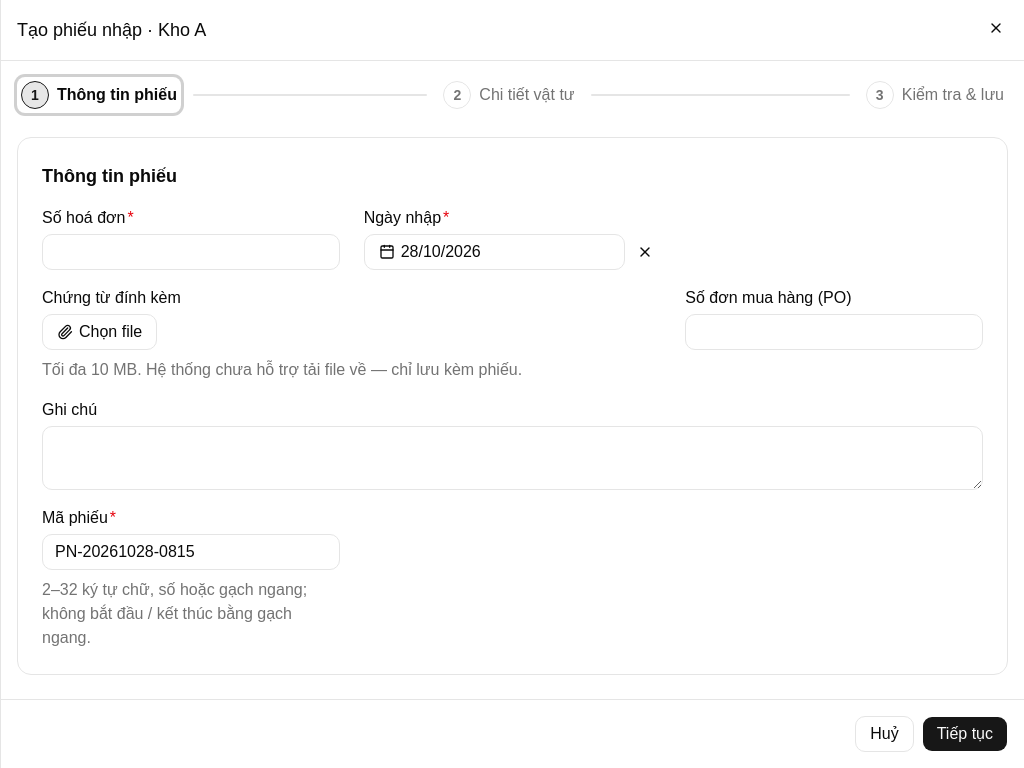
ImportFormSheet - wizard tạo mới › Tiếp tục khi thiếu số HĐ → ở lại ①, lỗi tại ô Số hoá đơn và ô có focus
The image size is (1024, 768).
Expected: the field labelled "Số hoá đơn *" is shown, [42,234,340,270]
Click the button "Tiếp tục".
click(965, 734)  # box [922,716,1008,752]
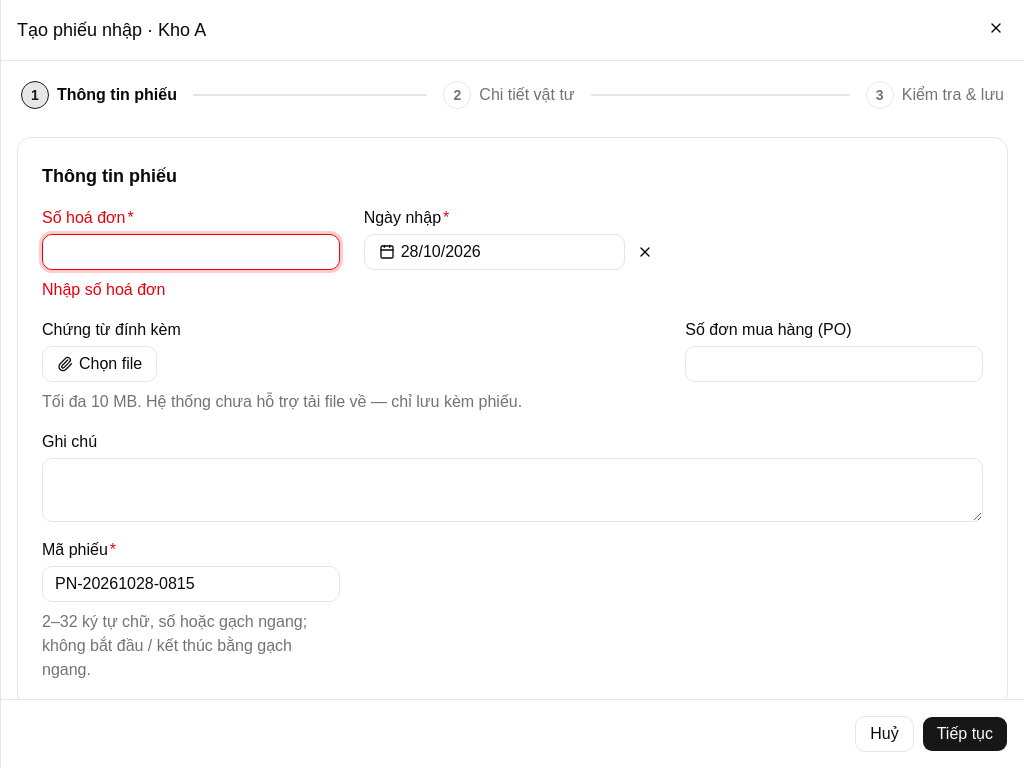
Result: the text "Nhập số hoá đơn" is shown at [42,281,166,298]
